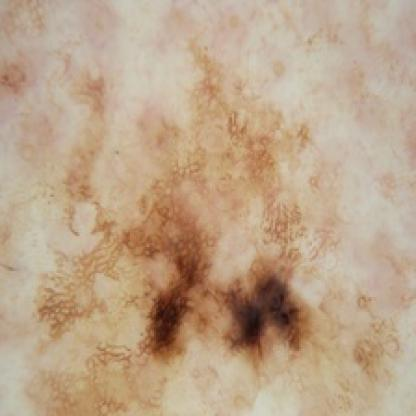malignant: (15, 50, 356, 383)
